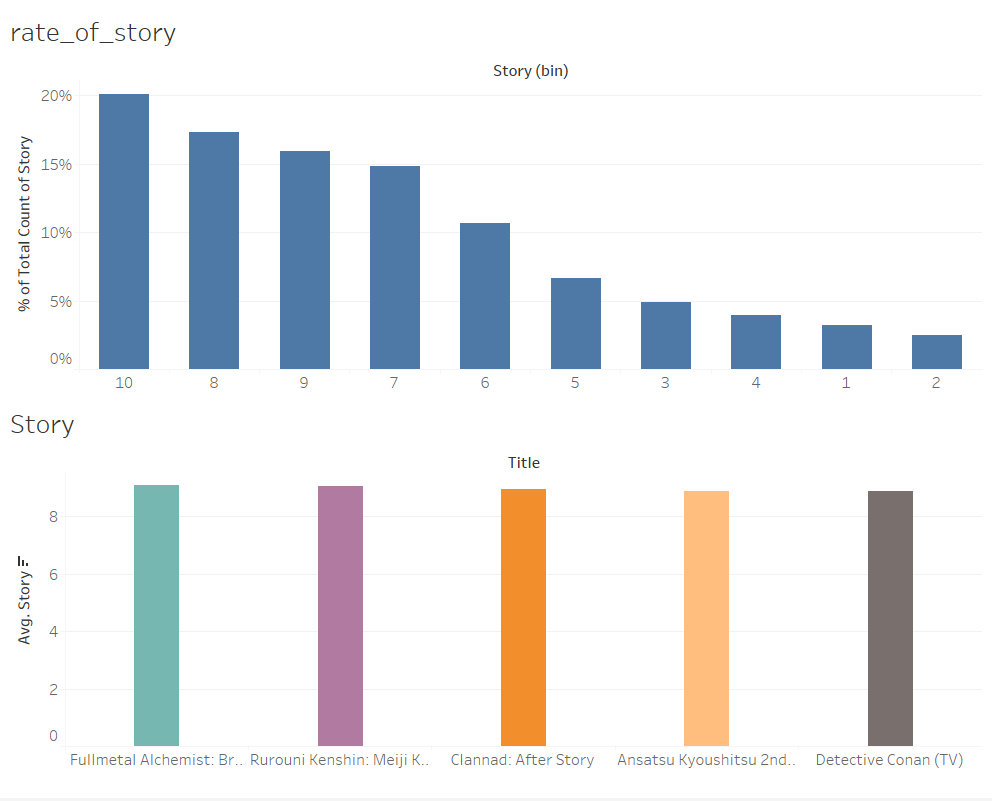

Layout of this report page (visuals, bound fields, positions):
{"tool":"tableau","page":{"name":"Story_dashboard","canvas":[1000,800],"ordinal":4},"visuals":[{"type":"worksheet","title":"rate_of_story","mark":"Automatic","rows":["Story"],"cols":["Story (bin)"],"box":[8,8,984,392]},{"type":"worksheet","title":"Story","mark":"Automatic","rows":["Story"],"cols":["title"],"box":[8,400,984,392]}]}

Visuals, with their boxes in screenshot pixels (x1, y1, x2, y2), scaled from the page's 1000x800 canvas onto the 992x801 screenshot:
"rate_of_story" worksheet: pyautogui.locateOnScreen(8, 8, 984, 400)
"Story" worksheet: pyautogui.locateOnScreen(8, 400, 984, 793)
